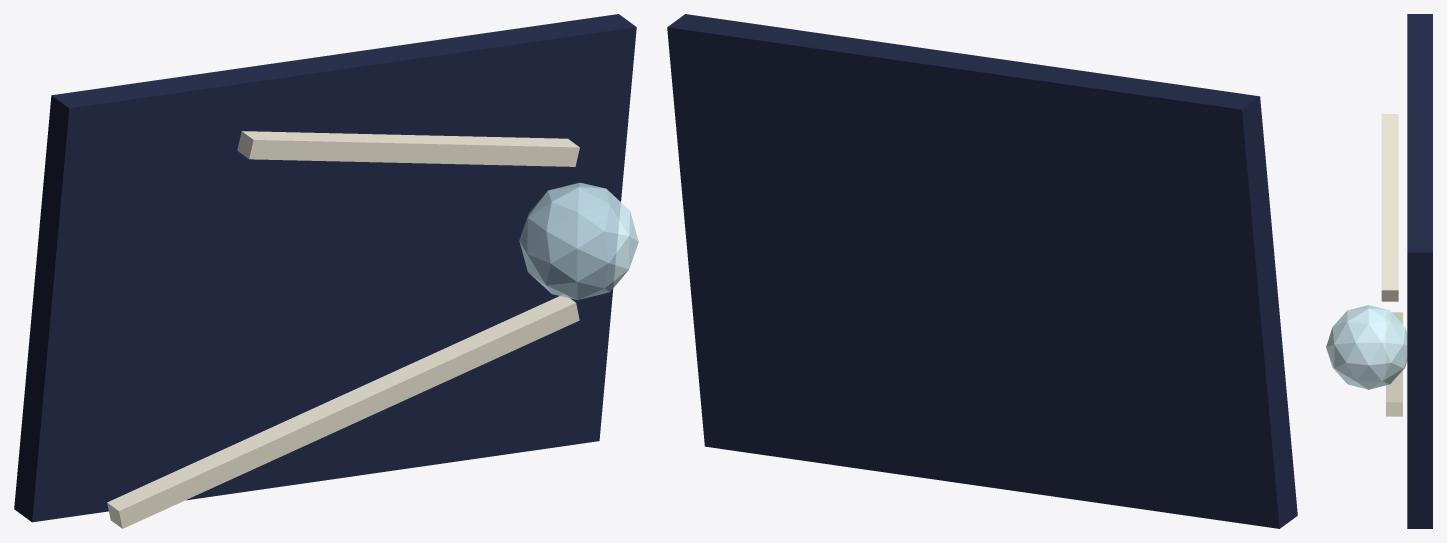
Rendered from 02_world_prop_polish.glb.
3 views of the same model, side by side, from view 1: azimuth 30°, elevation 25°; view 2: azimuth 150°, elevation 25°; view 3: azimuth 270°, elevation 25° (orthographic). The views are drawn at different scales.
Parts seen in each view (by area): view 1: object_overlay_plate, edge_wear_a, glow_socket, edge_wear_b; view 2: object_overlay_plate; view 3: object_overlay_plate, glow_socket, edge_wear_b, edge_wear_a.
Part boxes in pixels (x1,y1,x2,y2): object_overlay_plate: (14, 14, 636, 522); edge_wear_a: (107, 295, 579, 528); glow_socket: (519, 182, 638, 299); edge_wear_b: (237, 131, 579, 166); object_overlay_plate: (667, 14, 1297, 528); object_overlay_plate: (1407, 14, 1432, 528); glow_socket: (1326, 305, 1407, 389); edge_wear_b: (1381, 114, 1398, 301); edge_wear_a: (1386, 312, 1402, 416).
Bounding box in the file's own units: 1.17 × 0.8519 × 0.25.
